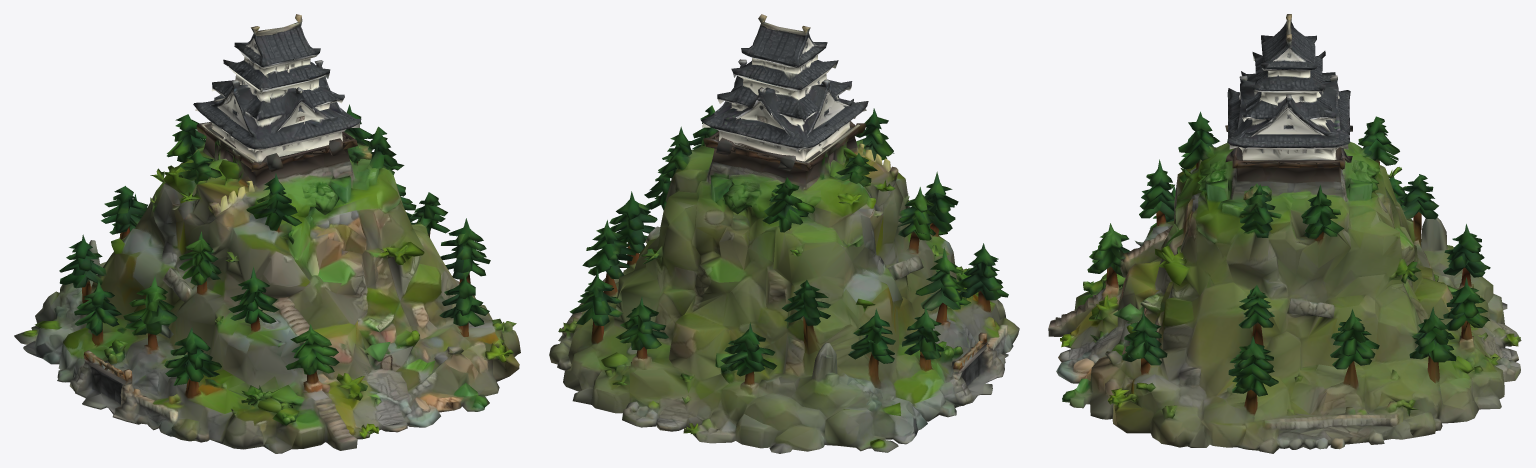
Rendered from env_japan_castlemountain.fbx.
3 views of the same model, side by side, from view 1: azimuth 30°, elevation 25°; view 2: azimuth 150°, elevation 25°; view 3: azimuth 270°, elevation 25° (orthographic).
Visible parts, largest first — view 1: env_japan_castlemountain_LOD0; view 2: env_japan_castlemountain_LOD0; view 3: env_japan_castlemountain_LOD0.
Boxes of the visible parts, bbox=[...] form: env_japan_castlemountain_LOD0: bbox=[14, 14, 520, 453]; env_japan_castlemountain_LOD0: bbox=[549, 14, 1019, 453]; env_japan_castlemountain_LOD0: bbox=[1048, 14, 1521, 453].
Size of what is drawn, in the model's own units: 0.9636 by 0.7617 by 0.9805.
